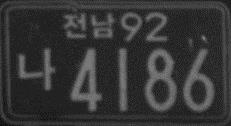1: (116, 46, 131, 112)
2: (144, 10, 169, 43)
4: (68, 47, 102, 112)
6: (181, 45, 216, 112)
8: (143, 47, 177, 110)
9: (119, 10, 142, 42)
나: (16, 46, 57, 93)
전남_O: (61, 11, 116, 40)
